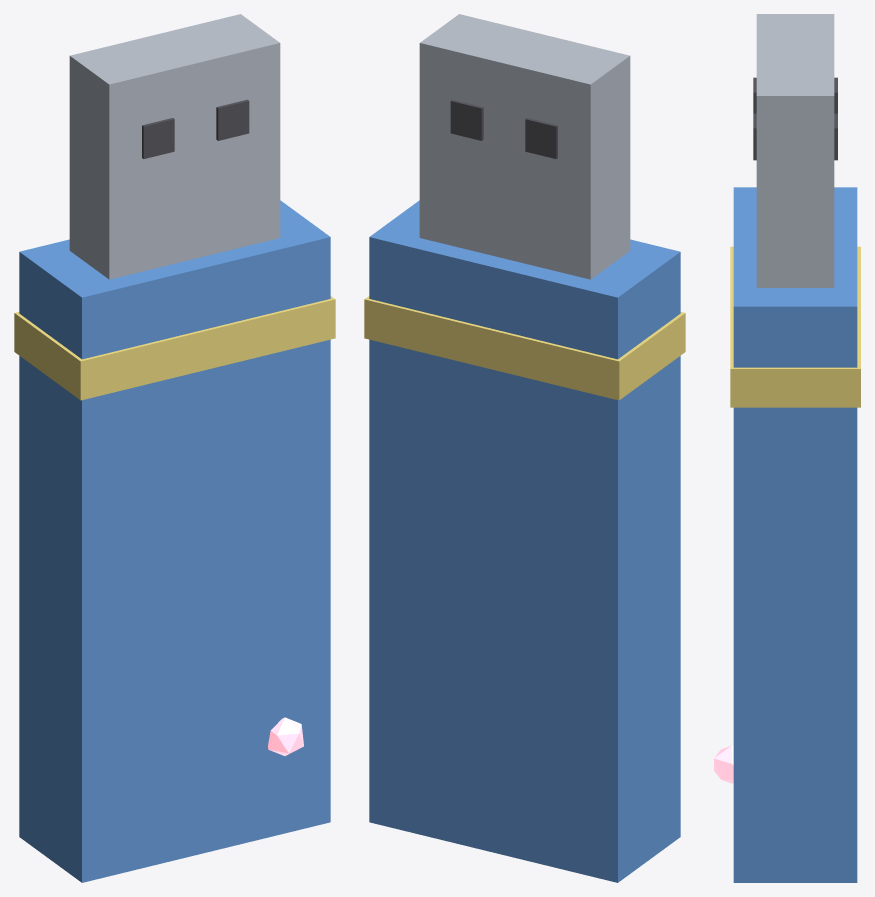
Rendered from usb_stick.glb.
3 renders of one model, left to right at view 1: azimuth 30°, elevation 25°; view 2: azimuth 150°, elevation 25°; view 3: azimuth 270°, elevation 25°, orthographic.
Visible parts, largest first — view 1: usb_stick; view 2: usb_stick; view 3: usb_stick.
Part boxes in pixels (x1,y1,x2,y2): usb_stick: [14, 14, 335, 882]; usb_stick: [364, 14, 685, 882]; usb_stick: [714, 14, 860, 882].
Bounding box in the file's own units: 0.82 × 2.4 × 0.416.
